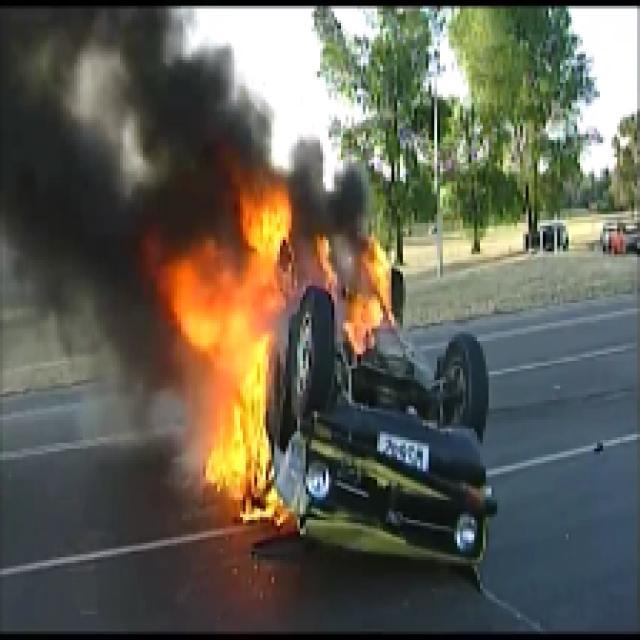Fire: (137, 134, 443, 552)
Smoke: (0, 2, 454, 257), (0, 29, 197, 452)
